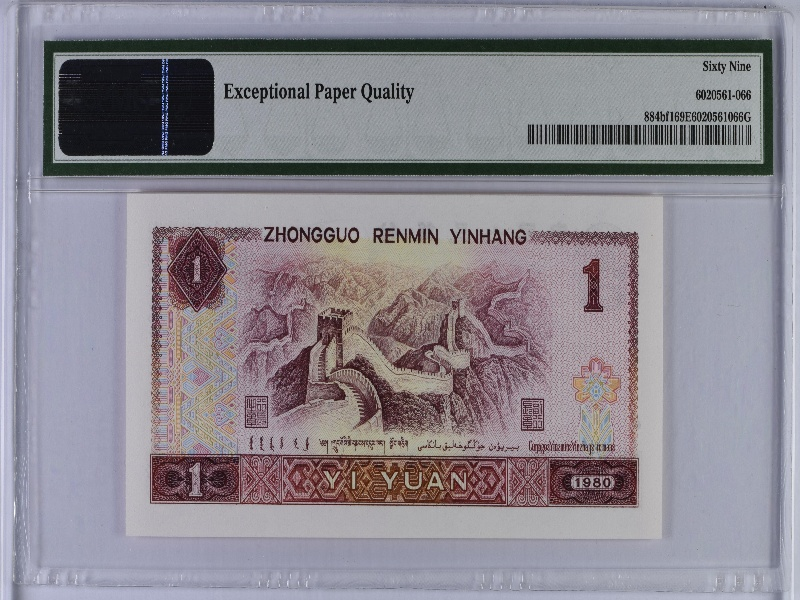papernote: (127, 189, 666, 545)
